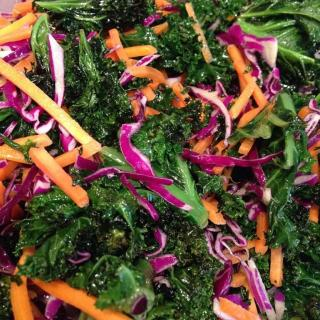Carrot: (0, 0, 319, 319), (28, 145, 88, 210)
Salad: (0, 0, 319, 319)
